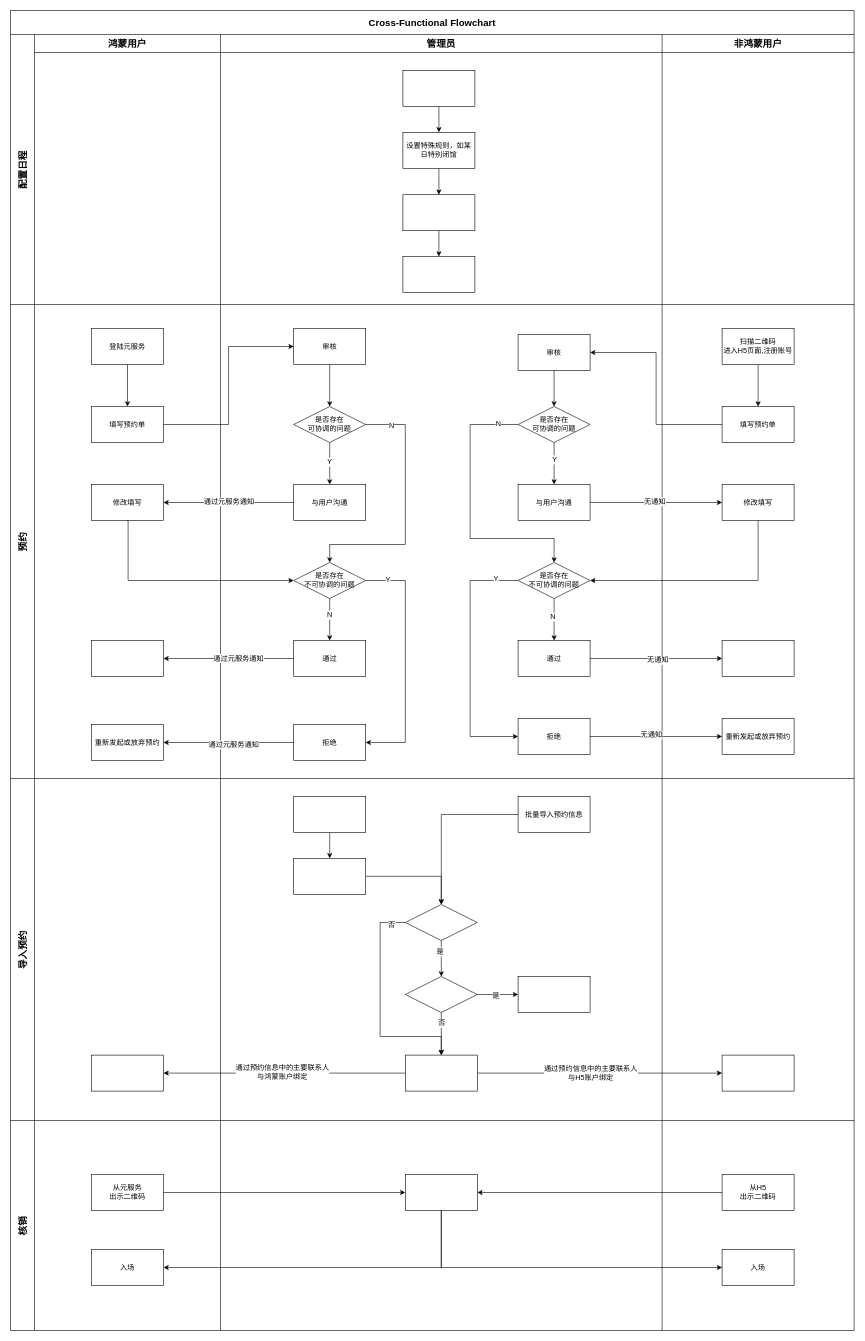
The diagram is 865 pixels wide and 1341 high, and some of its shapes have lost their labels. The shapes that lost their labels are listed below. From the top down, each one's box as (x1, y1, x2, y2) in pixels, then its label:
(402, 70, 475, 106): 设置基本循环规则， 如周一闭馆
(402, 194, 475, 231): 调整放票总额
(402, 256, 475, 292): 生成最终日程
(91, 640, 164, 676): 从元服务 获得二维码
(722, 640, 794, 676): 从H5 获得二维码
(293, 796, 366, 832): 新建预约
(293, 858, 366, 894): 填写预约信息
(405, 904, 477, 940): 是否需要 校验当日剩余票额
(405, 976, 477, 1012): 是否超出 当日剩余票额
(518, 976, 590, 1012): 报错，预约失败
(91, 1054, 164, 1091): 登陆元服务 获取二维码
(405, 1054, 477, 1091): 自动通过
(722, 1054, 794, 1091): 登陆元服务 获得二维码
(405, 1174, 477, 1210): 核销二维码
